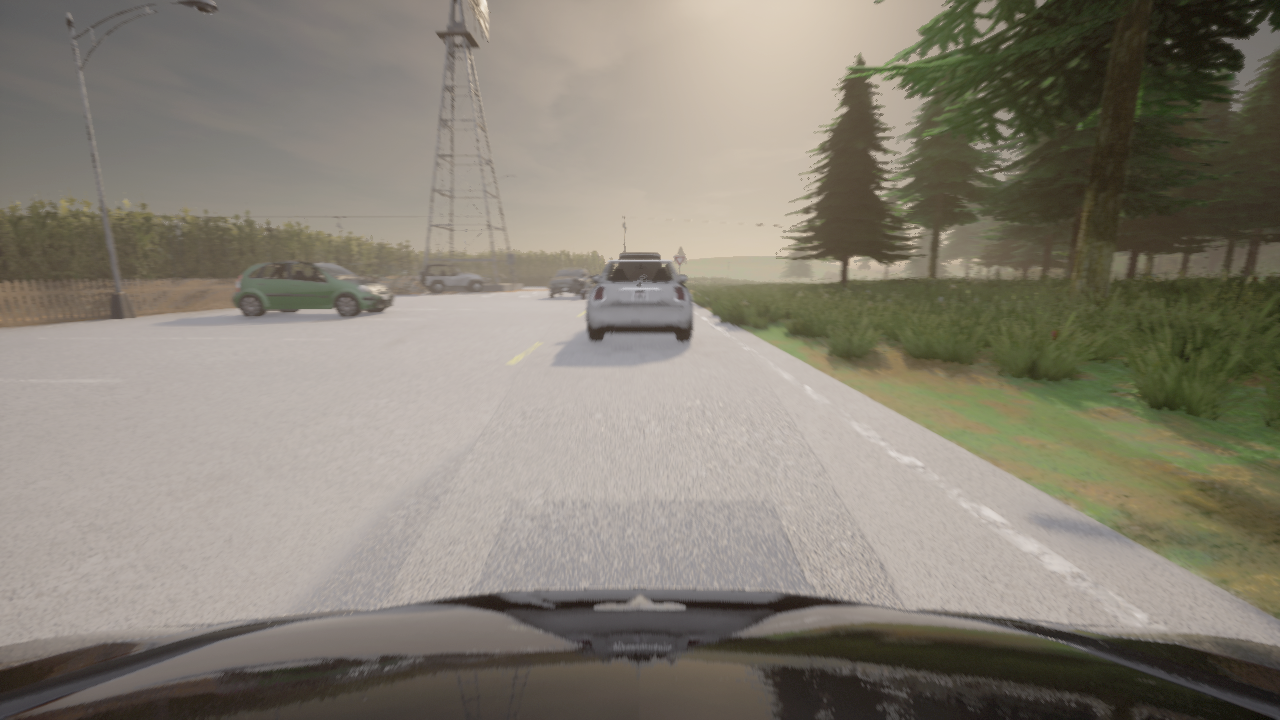cyclist: (0, 588, 1279, 719), (233, 260, 394, 316), (586, 259, 693, 341), (419, 263, 486, 293), (548, 267, 592, 298), (461, 272, 491, 282), (620, 253, 659, 258)
